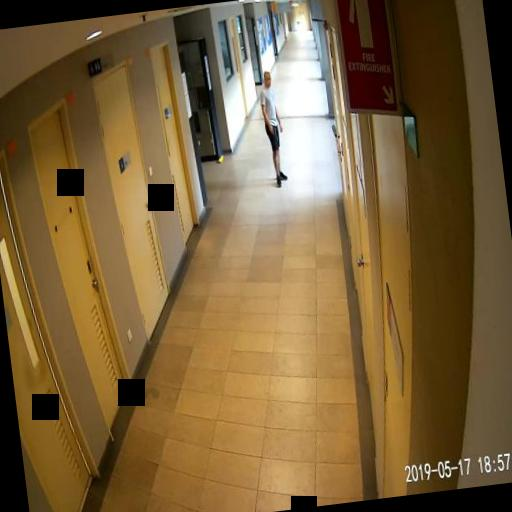Handgun: (268, 124, 277, 140)
